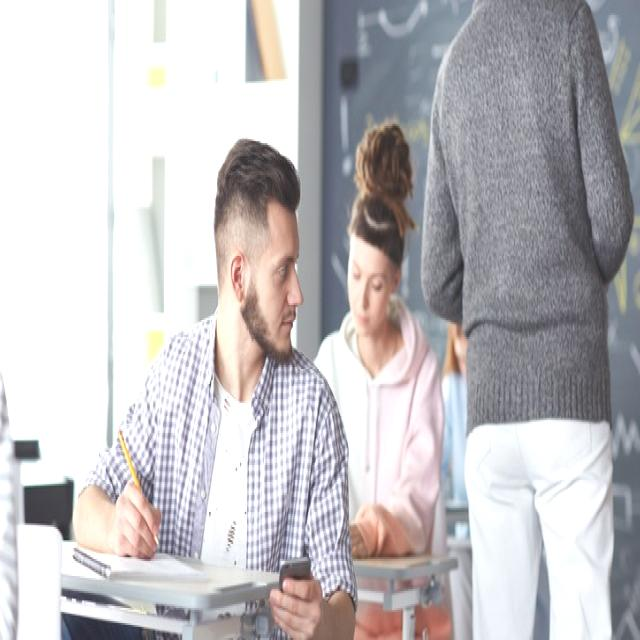non-cheating: (254, 538, 373, 640)
phone: (146, 99, 436, 387)
